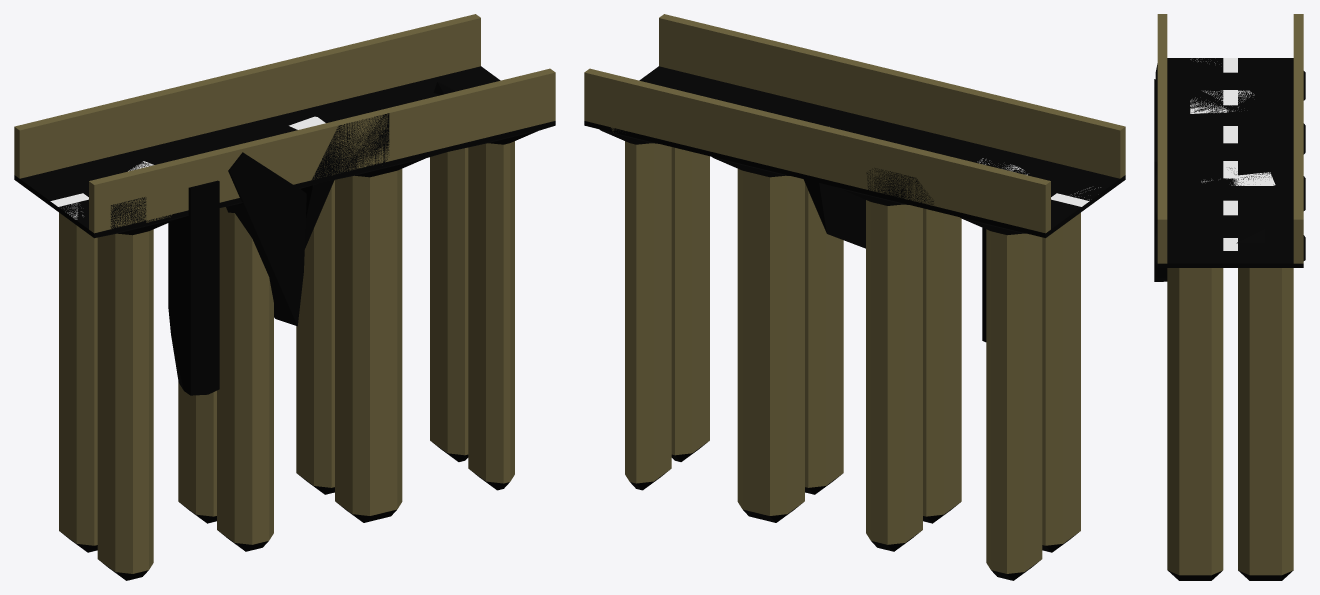
Rendered from Bridge C.F(3).fbx.
3 views of the same model, side by side, from view 1: azimuth 30°, elevation 25°; view 2: azimuth 150°, elevation 25°; view 3: azimuth 270°, elevation 25° (orthographic). The views are drawn at different scales.
Visible parts, largest first — view 1: road, road_cell.074, road_cell.095, road_cell, road_cell.089, road_cell.008, road_cell.003, road_cell.030, road_cell.028, road_cell.069, road_cell.015, road_cell.098 (+22 smaller); view 2: road, road_cell.048, road_cell.097, road_cell.012, road_cell.083, road_cell.068, road_cell.080, road_cell.046, road_cell.002, road_cell.014, road_cell.075, road_cell.069 (+13 smaller); view 3: road, road_cell.023, road_cell.015, road_cell.007, road_cell.080, road_cell.006, road_cell.083, road_cell.012, road_cell.095, road_cell.020, road_cell.010, road_cell.089 (+11 smaller).
Boxes of the visible parts, bbox=[...] form: road: bbox=[14, 20, 555, 580]; road_cell.074: bbox=[168, 180, 219, 395]; road_cell.095: bbox=[226, 152, 306, 326]; road_cell: bbox=[310, 113, 389, 182]; road_cell.089: bbox=[44, 172, 95, 372]; road_cell.008: bbox=[296, 308, 320, 491]; road_cell.003: bbox=[340, 168, 402, 346]; road_cell.030: bbox=[285, 40, 381, 85]; road_cell.028: bbox=[376, 24, 436, 82]; road_cell.069: bbox=[59, 362, 79, 546]; road_cell.015: bbox=[472, 135, 520, 311]; road_cell.098: bbox=[186, 67, 263, 117]; road: bbox=[584, 14, 1125, 578]; road_cell.048: bbox=[737, 333, 781, 522]; road_cell.097: bbox=[866, 362, 907, 551]; road_cell.012: bbox=[866, 202, 922, 376]; road_cell.083: bbox=[737, 168, 781, 346]; road_cell.068: bbox=[1042, 369, 1071, 552]; road_cell.080: bbox=[625, 306, 660, 490]; road_cell.046: bbox=[986, 220, 1015, 404]; road_cell.002: bbox=[923, 338, 947, 518]; road_cell.014: bbox=[671, 281, 697, 455]; road_cell.075: bbox=[805, 311, 834, 488]; road_cell.069: bbox=[1013, 394, 1037, 580]; road: bbox=[1155, 14, 1305, 580]; road_cell.023: bbox=[1249, 419, 1279, 580]; road_cell.015: bbox=[1156, 245, 1201, 420]; road_cell.007: bbox=[1168, 420, 1201, 580]; road_cell.080: bbox=[1269, 416, 1293, 580]; road_cell.006: bbox=[1201, 416, 1223, 570]; road_cell.083: bbox=[1243, 185, 1286, 223]; road_cell.012: bbox=[1253, 108, 1286, 142]; road_cell.095: bbox=[1154, 82, 1167, 277]; road_cell.020: bbox=[1190, 90, 1254, 113]; road_cell.010: bbox=[1201, 172, 1275, 185]; road_cell.089: bbox=[1251, 64, 1286, 83].
Size of the model in its own units: 2000 by 1720 by 621.
